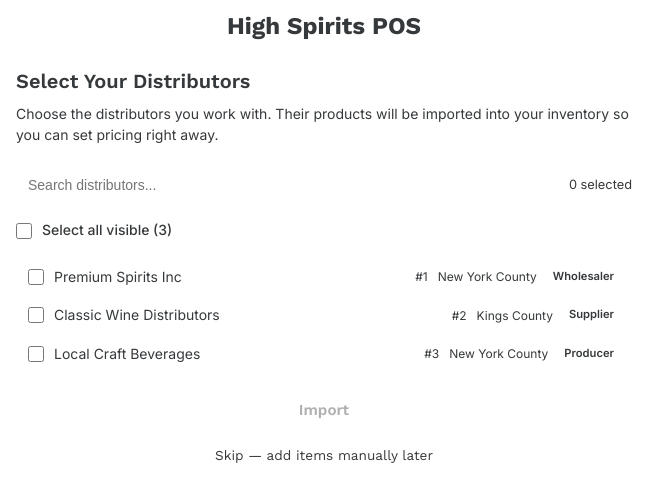
Test case: DistributorOnboardingScreen › enables Import button when a distributor is selected
Expected: the text "Premium Spirits Inc" is shown, x1=54 y1=268 x2=182 y2=285
Click the checkbox labelled "Premium Spirits Inc #1 New York County Wholesaler": (36, 277) x1=28 y1=269 x2=44 y2=285
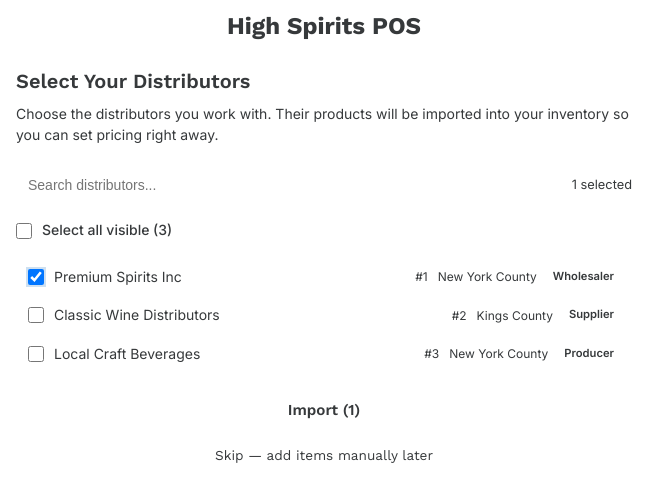
Result: the button "Import (1)" is enabled at x1=16 y1=389 x2=632 y2=431
